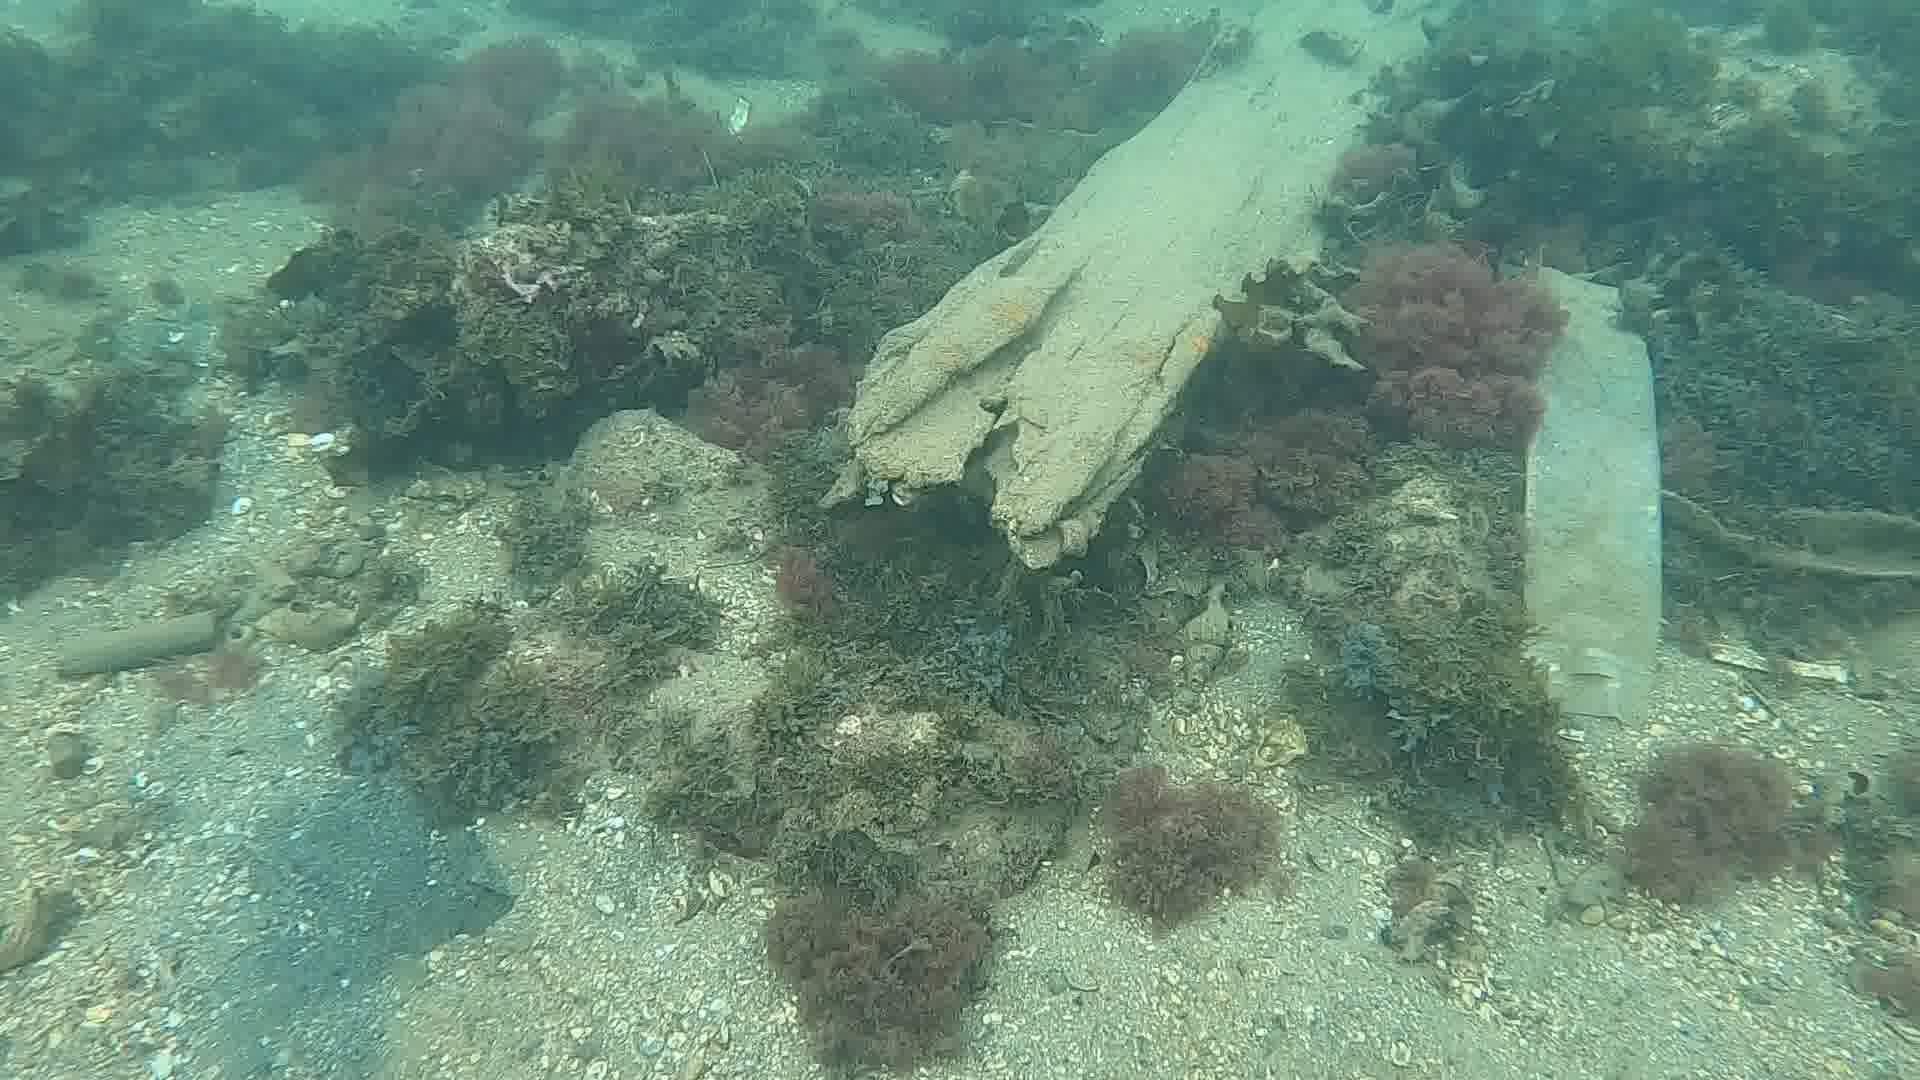wood: (816, 0, 1470, 568)
